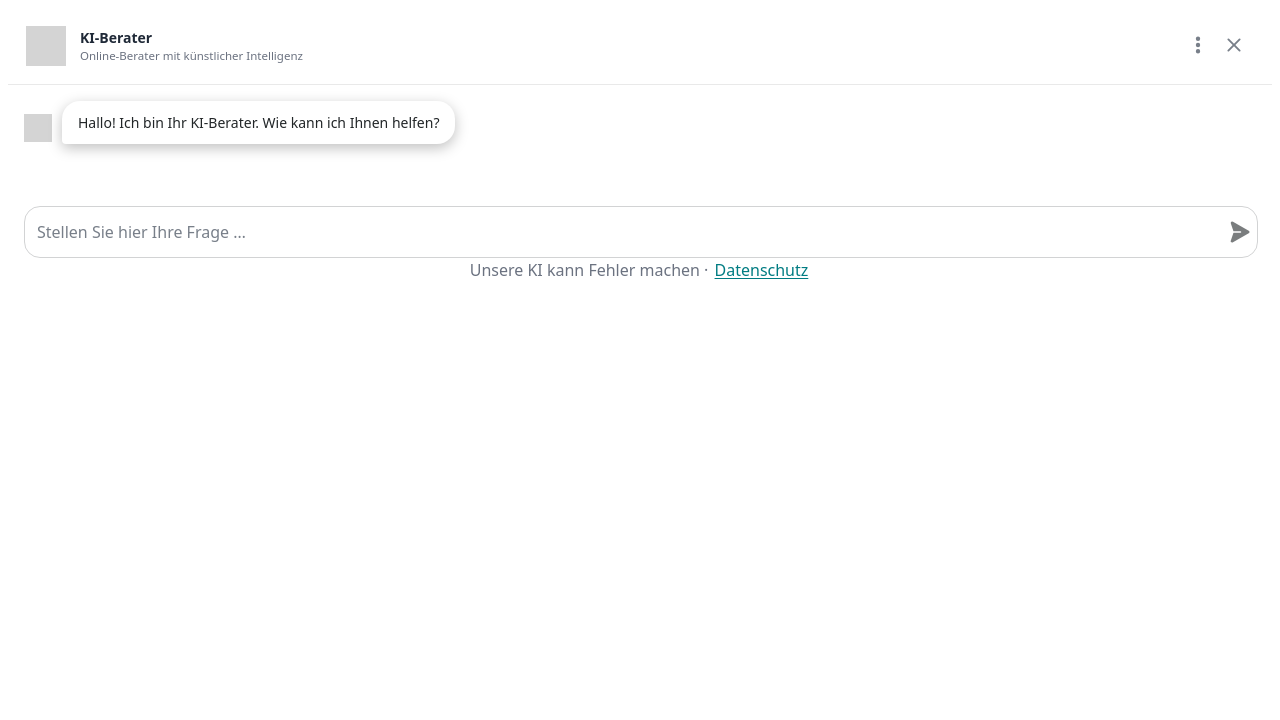
Test: W8: Reste des Einmal-Hinweises entfernt › data-privacy-button-text bleibt ohne Wirkung und ohne Warnung
Click the button with id "anything-llm-privacy-link": click(761, 270) x1=712 y1=258 x2=810 y2=282
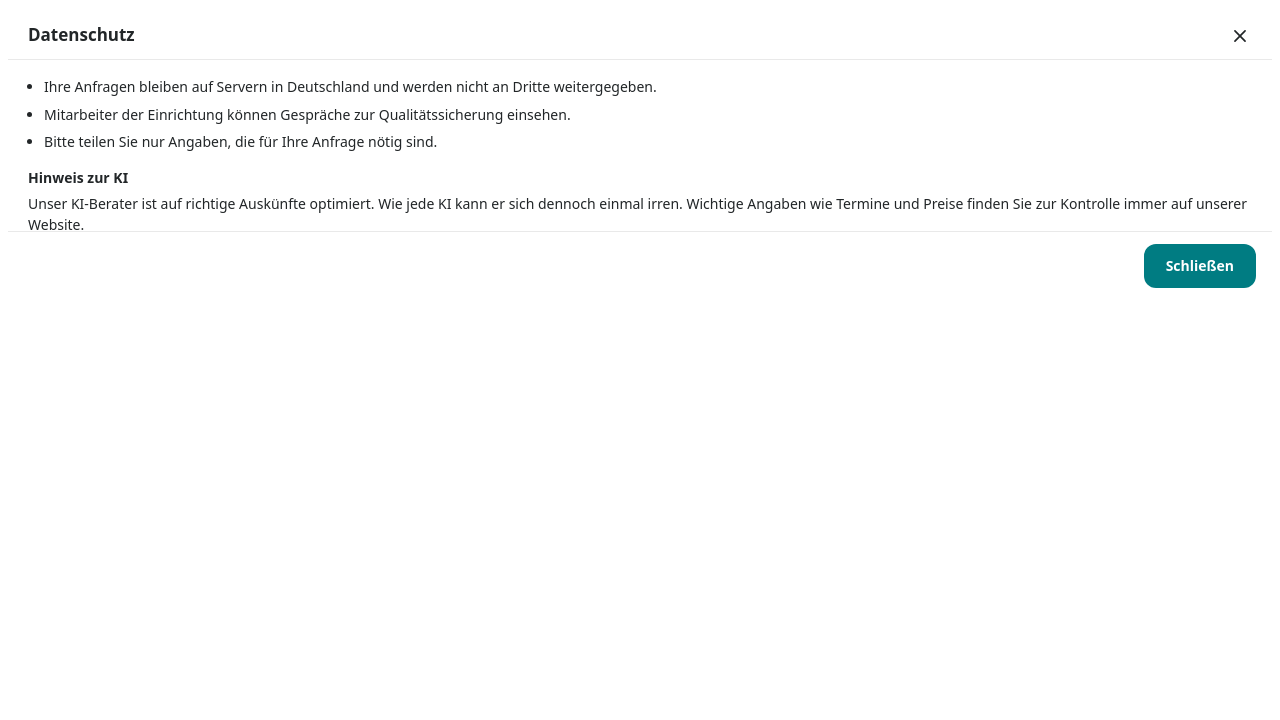
Expected: the button "Schließen" is shown, x1=1144 y1=244 x2=1256 y2=288
